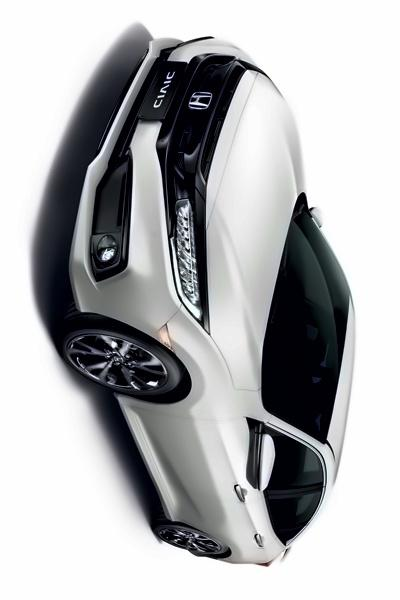Car hood: (203, 66, 306, 393)
Fender - -F-L-: (115, 303, 268, 424)
Front bumper: (63, 36, 207, 336)
Headlight - -L-: (157, 189, 211, 327)
Passenger-s door - -F-L-: (131, 409, 335, 489)
Passenger-s door - -R-L-: (163, 488, 332, 548)
Side bumper - -L-: (111, 389, 191, 525)
Side mirror - -L-: (239, 422, 280, 499)
Side mirror - -R-: (302, 194, 331, 233)
